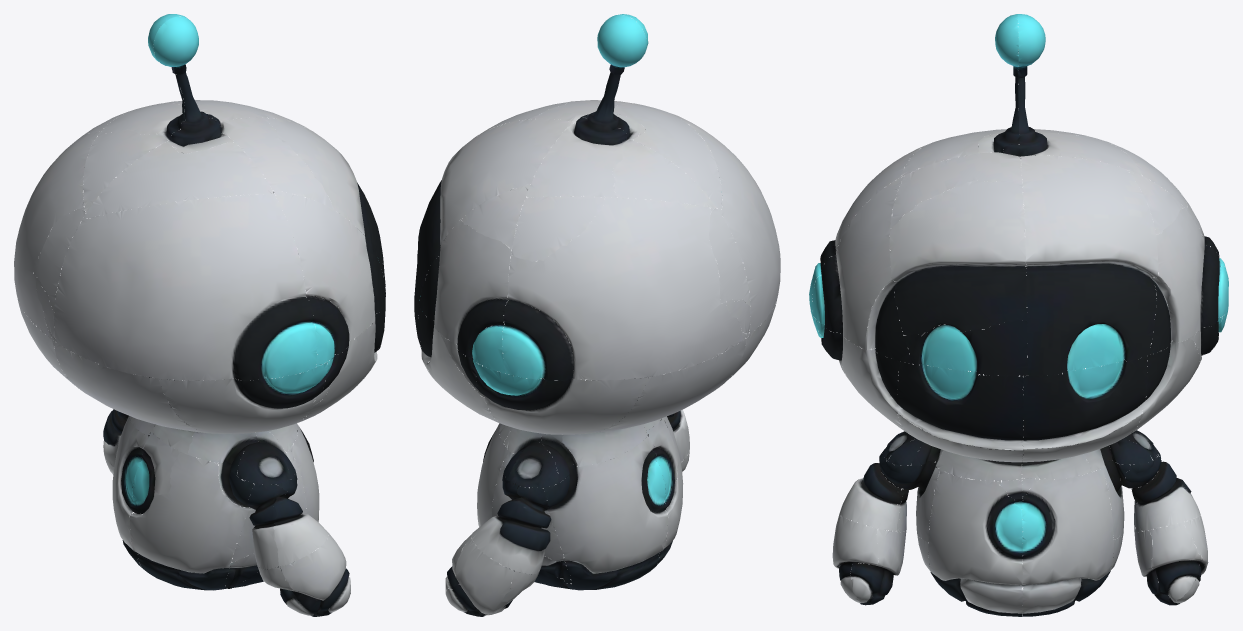
Rendered from white-robot.glb.
3 views of the same model, side by side, from view 1: azimuth 30°, elevation 25°; view 2: azimuth 150°, elevation 25°; view 3: azimuth 270°, elevation 25° (orthographic).
Visible parts, largest first — view 1: tripo_node_ebc3e192-5e32-4503-bc33-76ccf7c69994; view 2: tripo_node_ebc3e192-5e32-4503-bc33-76ccf7c69994; view 3: tripo_node_ebc3e192-5e32-4503-bc33-76ccf7c69994.
Boxes of the visible parts, x1,y1,x2,y2 form: tripo_node_ebc3e192-5e32-4503-bc33-76ccf7c69994: (14, 14, 385, 616); tripo_node_ebc3e192-5e32-4503-bc33-76ccf7c69994: (414, 14, 780, 616); tripo_node_ebc3e192-5e32-4503-bc33-76ccf7c69994: (809, 14, 1228, 616).
Size of the model in its own units: 0.5752 by 1 by 0.6799.
1 material, 1 textured.
